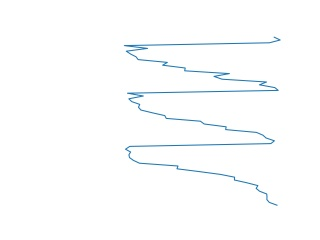distributaryMouthBar: (122, 37, 284, 207)
